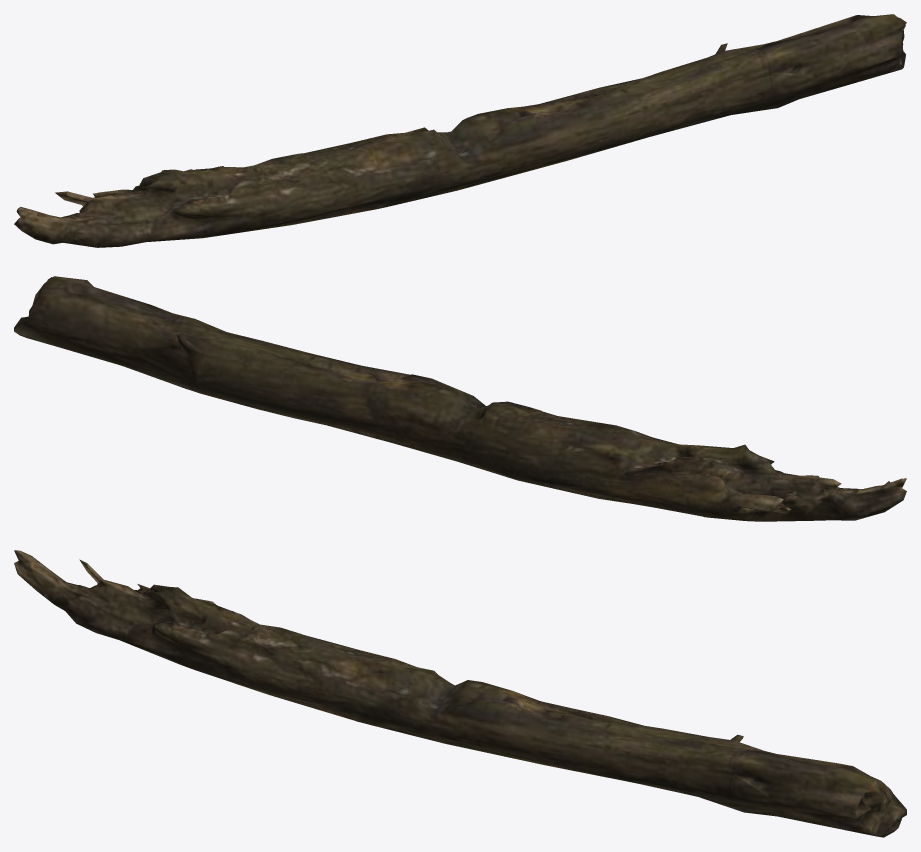
The model's file is dead_tree_trunk.glb.
3 views of the same model, one above another, from view 1: azimuth 30°, elevation 25°; view 2: azimuth 150°, elevation 25°; view 3: azimuth 330°, elevation 25° (orthographic).
Visible parts, largest first — view 1: dead_tree_trunk; view 2: dead_tree_trunk; view 3: dead_tree_trunk.
Boxes of the visible parts, x1,y1,x2,y2 form: dead_tree_trunk: (14,14,906,247); dead_tree_trunk: (14,276,906,521); dead_tree_trunk: (14,550,906,837).
Bounding box in the file's own units: 3.04 × 0.2869 × 0.2751.
1 material, 1 textured.
